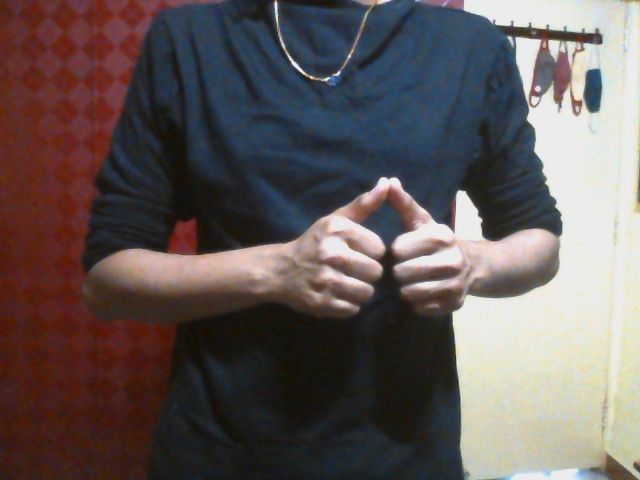A: (285, 175, 467, 316)
